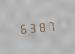eight: (36, 20, 44, 33)
seven: (45, 19, 53, 32)
six: (18, 21, 26, 34)
three: (27, 20, 35, 34)
